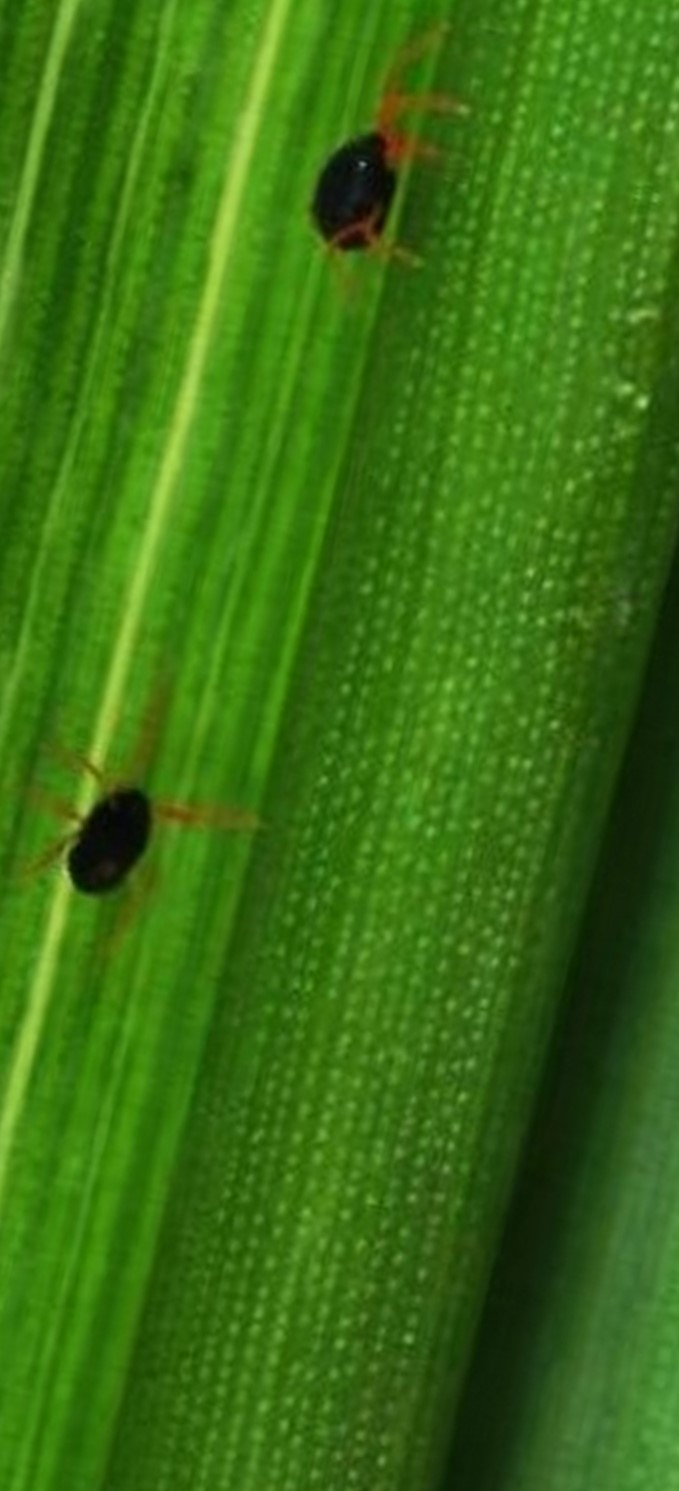Wheat Red Spider: (264, 20, 481, 305)
